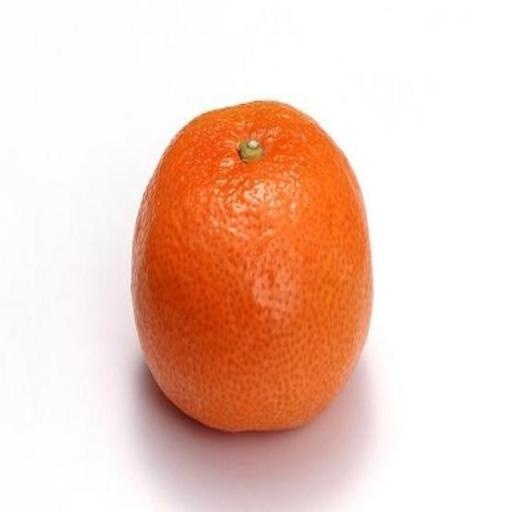fruit: (132, 102, 371, 431)
